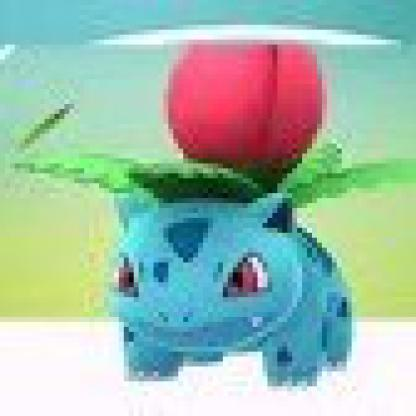Ivysaur: (11, 26, 412, 397)
